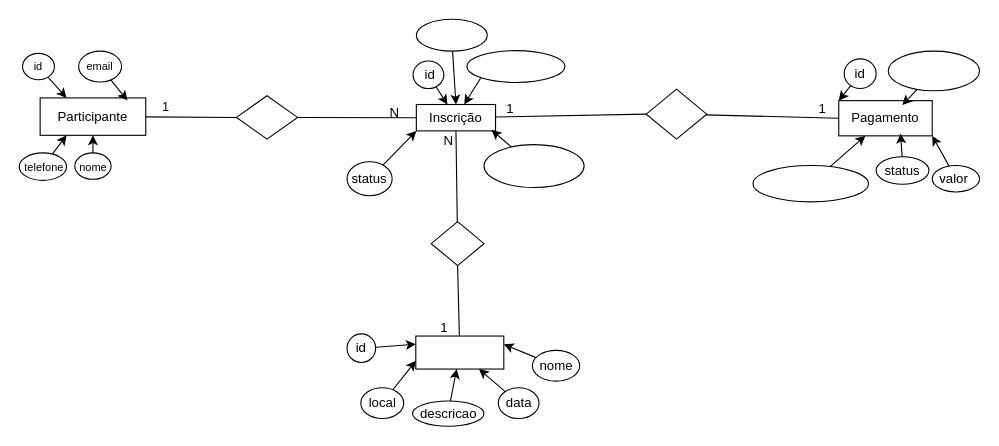
Some shapes in this 999 by 446 pixel diagram are drawn without their labels. The centre of each missing label's shape, as x and y in pixels:
"data_inscricao" belongs at pixel 515 66.
"data_pagamento" belongs at pixel 810 183.
"Evento" belongs at pixel 459 352.
"id_evento" belongs at pixel 451 34.
"id_inscricao" belongs at pixel 933 70.
"id_participante" belongs at pixel 533 166.
"Possui" belongs at pixel 676 113.
"Realiza" belongs at pixel 266 117.
"Tem" belongs at pixel 457 243.
